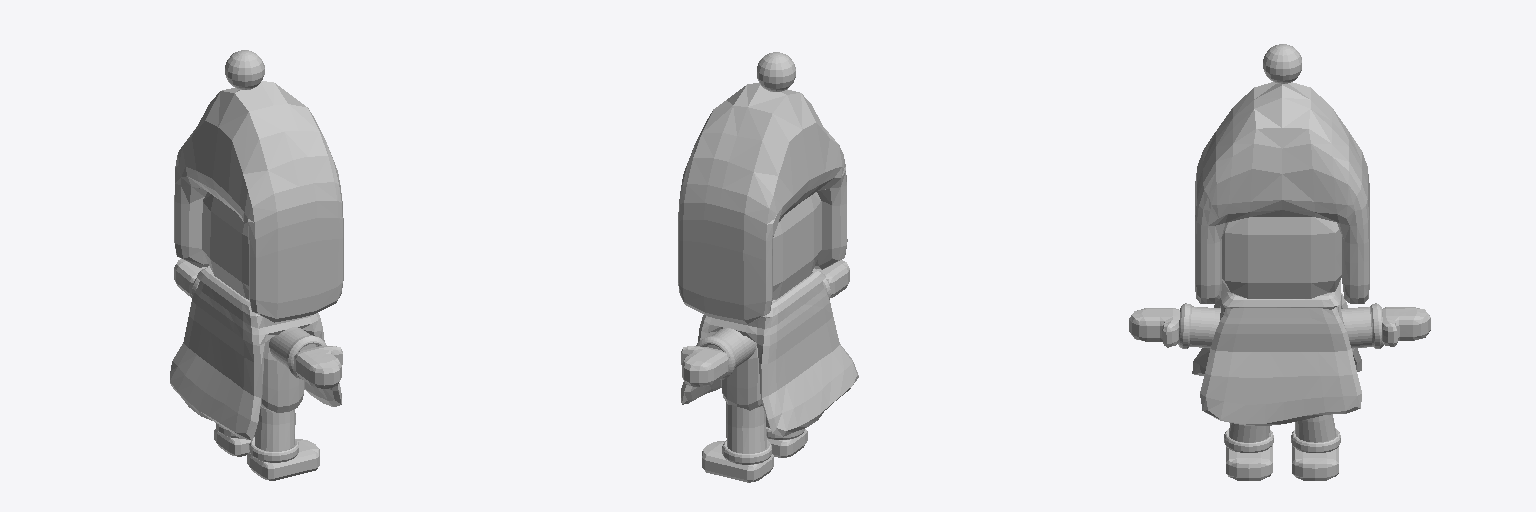
Rendered from Peruvian.obj.
3 views of the same model, side by side, from view 1: azimuth 30°, elevation 25°; view 2: azimuth 150°, elevation 25°; view 3: azimuth 270°, elevation 25° (orthographic).
Bounding box in the file's own units: 0.9085 × 3.25 × 2.17.